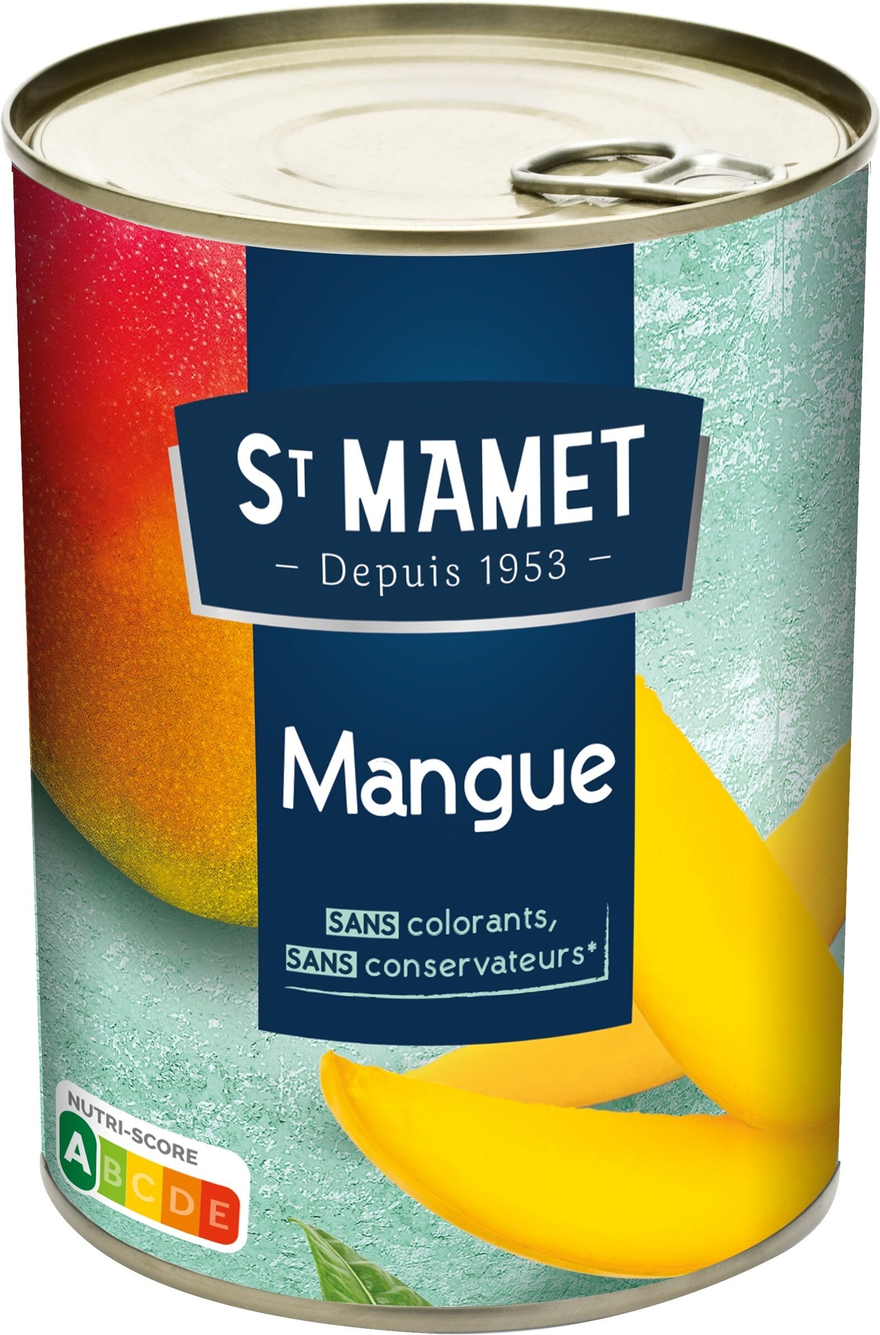Mangues en tranches: (44, 67, 836, 1268)
